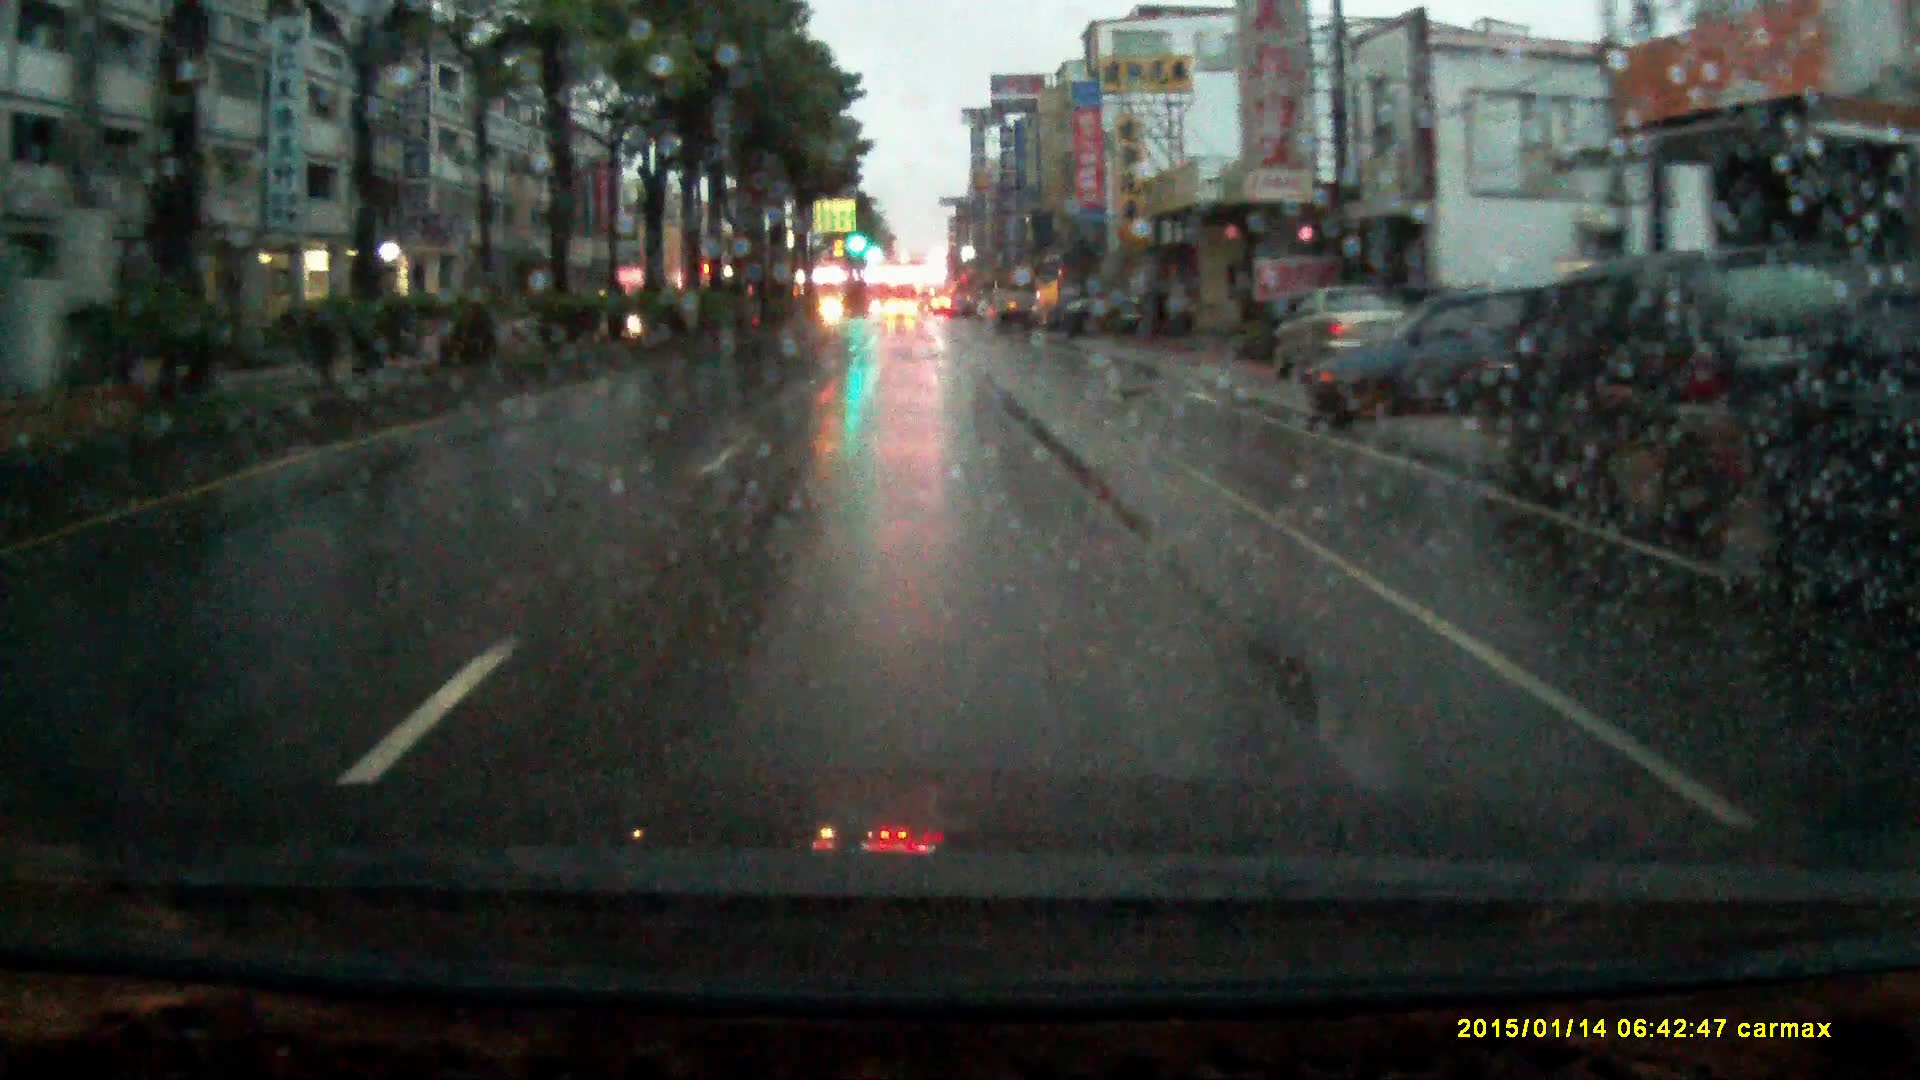vehicle: (1478, 247, 1882, 539), (1741, 284, 1920, 638), (1302, 285, 1626, 423), (1266, 284, 1410, 392), (1031, 291, 1168, 338), (992, 287, 1035, 334), (886, 299, 918, 322)
